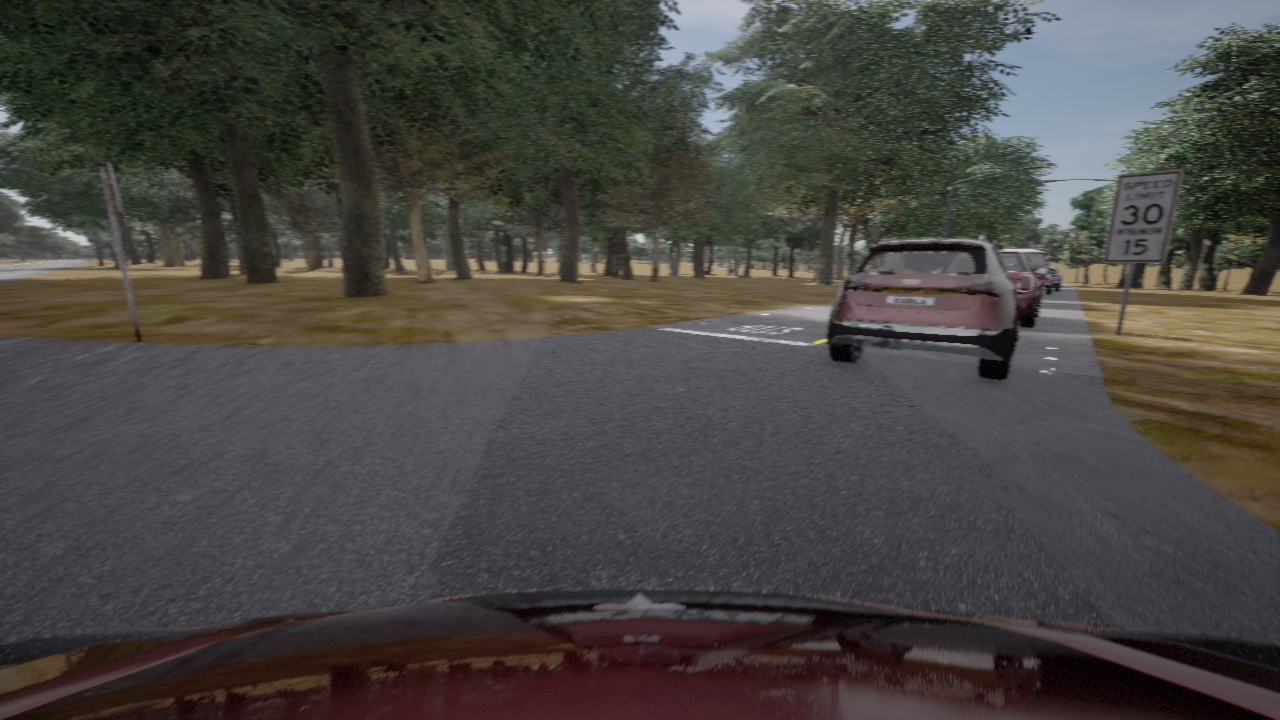cyclist: (0, 588, 1279, 719), (827, 233, 1026, 380), (997, 250, 1048, 327), (1001, 249, 1050, 284), (1047, 267, 1063, 290), (1044, 271, 1057, 293), (1056, 267, 1058, 269)
